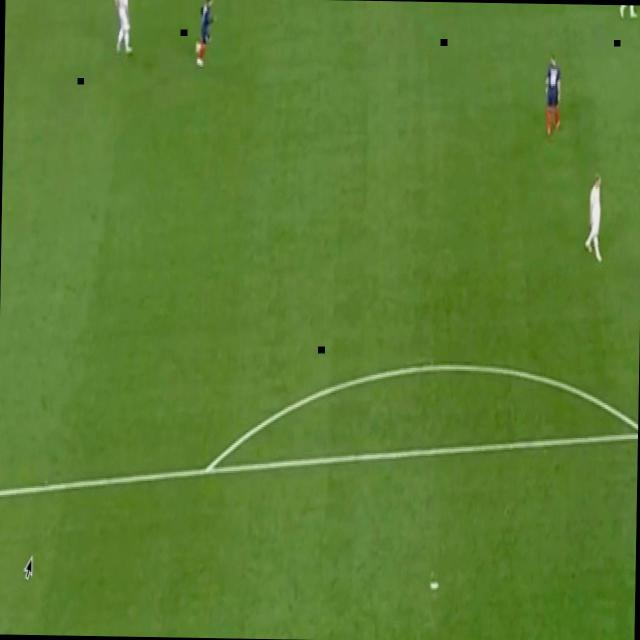player-white: (543, 52, 563, 138), (585, 172, 604, 262), (195, 0, 218, 68), (114, 0, 134, 54), (619, 5, 639, 19)
